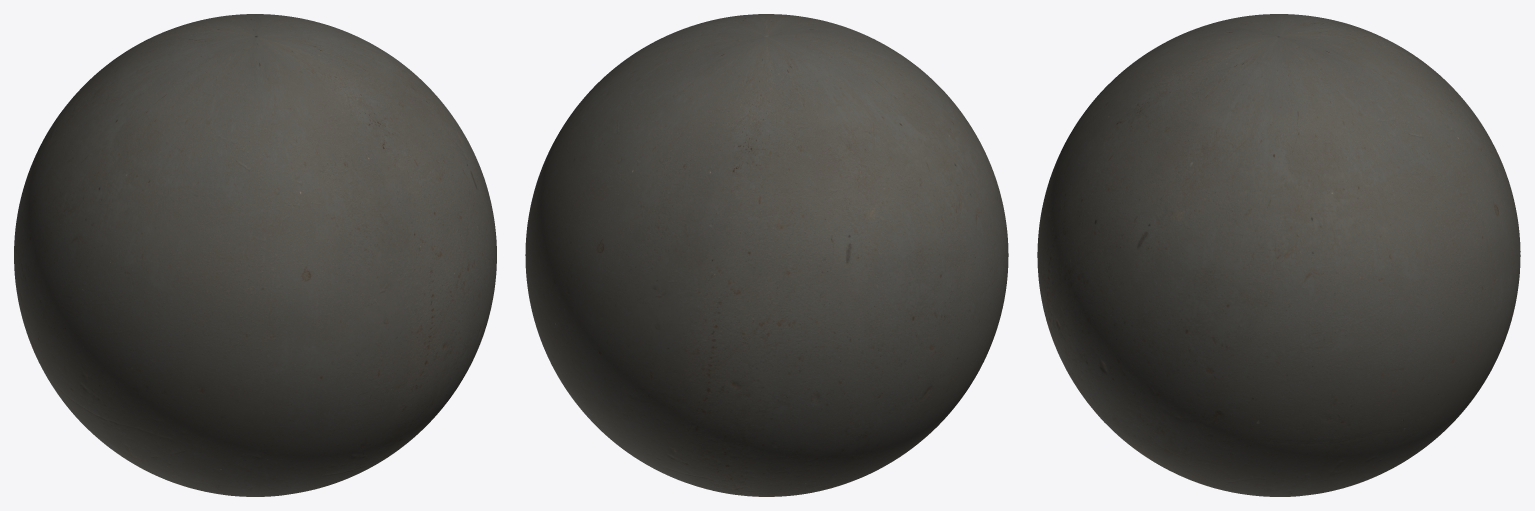
The model's file is painted_concrete_02_1k.gltf.
The picture shows the model from 3 angles, left to right: view 1: azimuth 30°, elevation 25°; view 2: azimuth 150°, elevation 25°; view 3: azimuth 270°, elevation 25°; orthographic projection.
Parts seen in each view (by area): view 1: sphere_gltf; view 2: sphere_gltf; view 3: sphere_gltf.
Boxes of the visible parts, x1,y1,x2,y2 form: sphere_gltf: (14,14,496,496); sphere_gltf: (525,14,1008,496); sphere_gltf: (1037,14,1520,496).
Bounding box in the file's own units: 3.99 × 3.99 × 3.99.
Materials: 1 (1 with a texture image).
